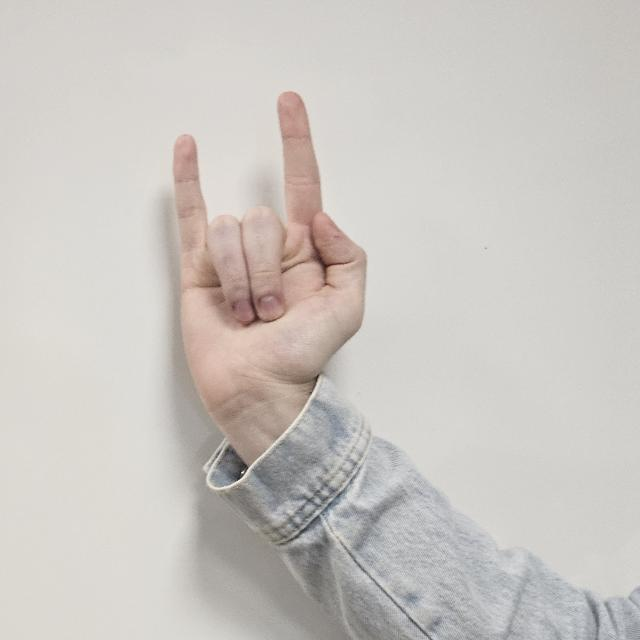L: (167, 84, 379, 402)
